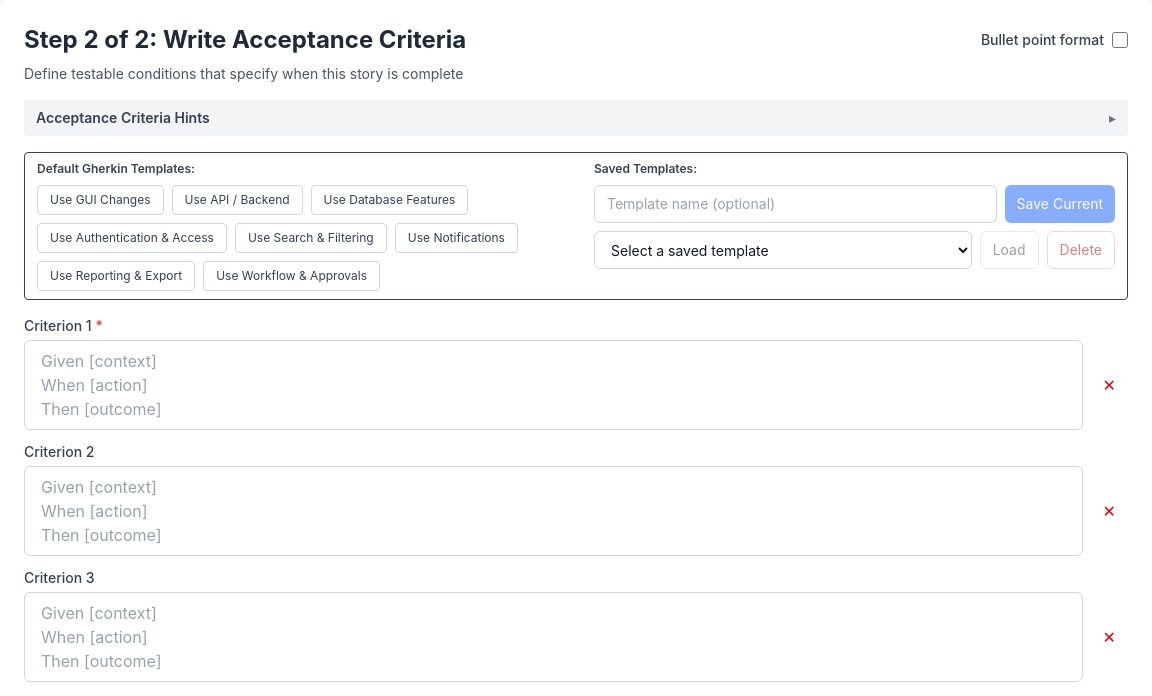
Test: AcceptanceCriteriaForm › should switch placeholder when Bullet-Point format is selected
Click the checkbox labelled "Bullet point format" at (1120, 40), box [1112, 32, 1128, 48]
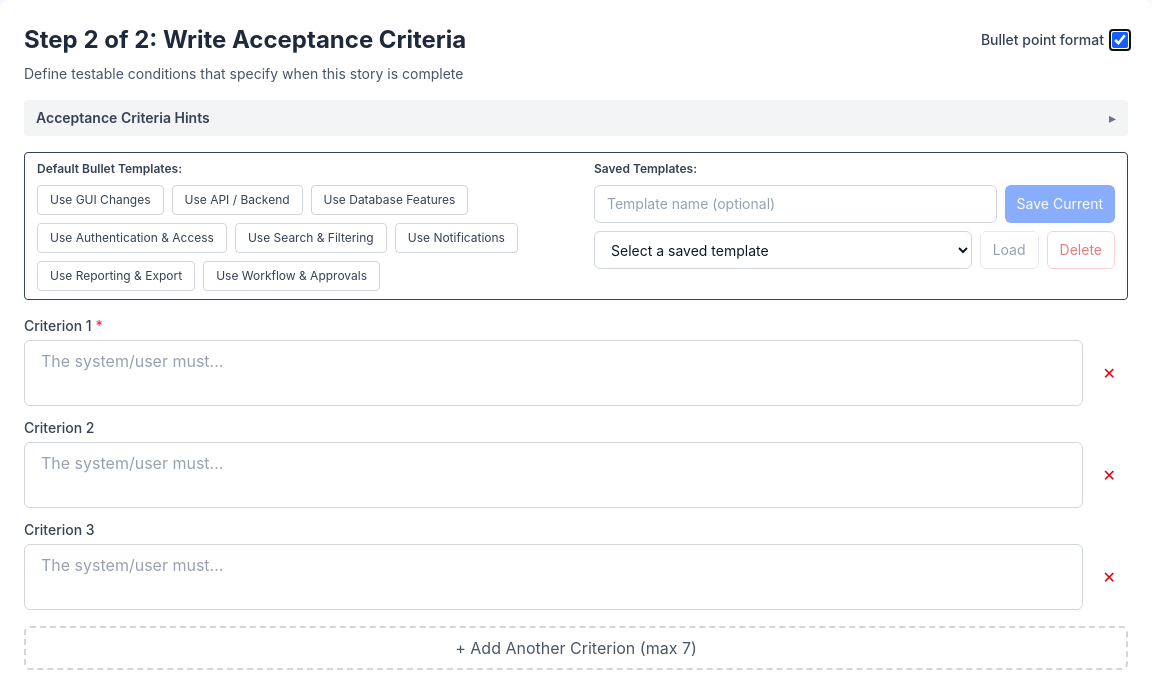
Now the text box with placeholder "The system/user must..." is shown, box [24, 340, 1083, 406]
